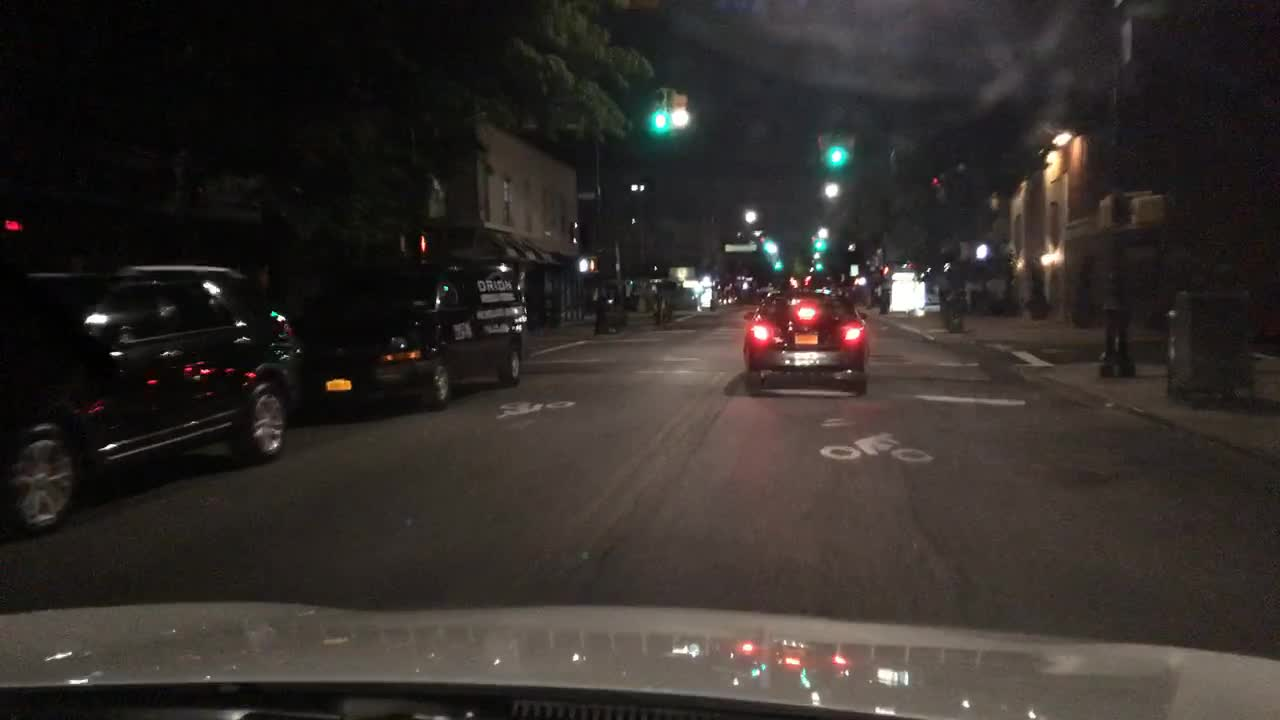car: (0, 263, 301, 532), (294, 258, 524, 410), (742, 290, 869, 394)
traffic light: (1130, 193, 1162, 227), (670, 91, 688, 132), (652, 87, 668, 132), (826, 134, 848, 166), (1096, 199, 1114, 231), (758, 238, 778, 252), (416, 232, 428, 253), (576, 258, 585, 276), (587, 256, 597, 272), (815, 238, 826, 252), (811, 261, 825, 272), (774, 258, 783, 272)
